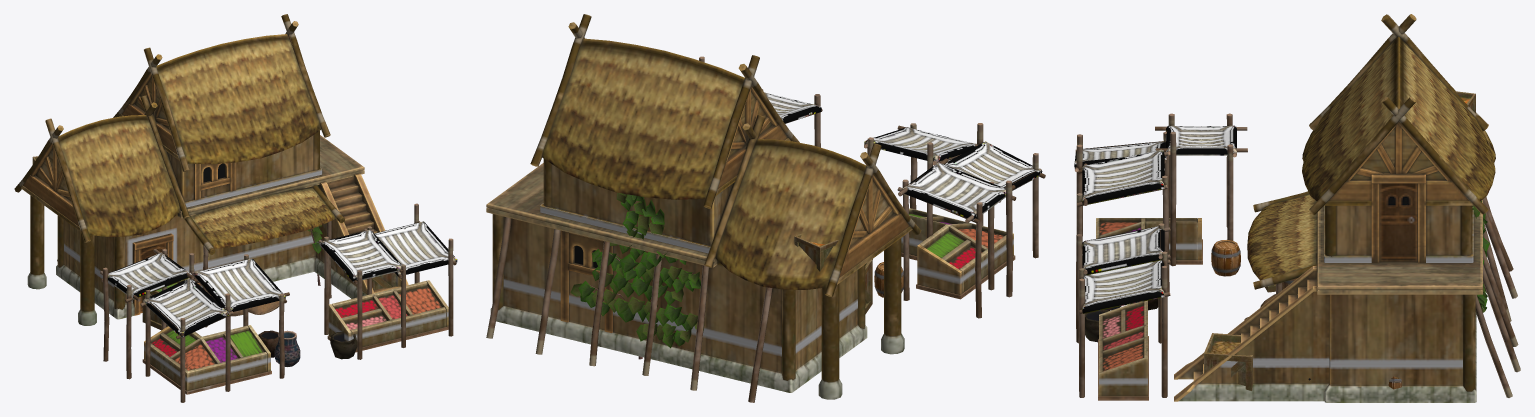
The model's file is 53-market.glb.
The picture shows the model from 3 angles, left to right: view 1: azimuth 30°, elevation 25°; view 2: azimuth 150°, elevation 25°; view 3: azimuth 270°, elevation 25°; orthographic projection. The views are drawn at different scales.
Size of the model in its own units: 8.61 by 6.78 by 9.11.
Materials: 8 (8 with a texture image).
